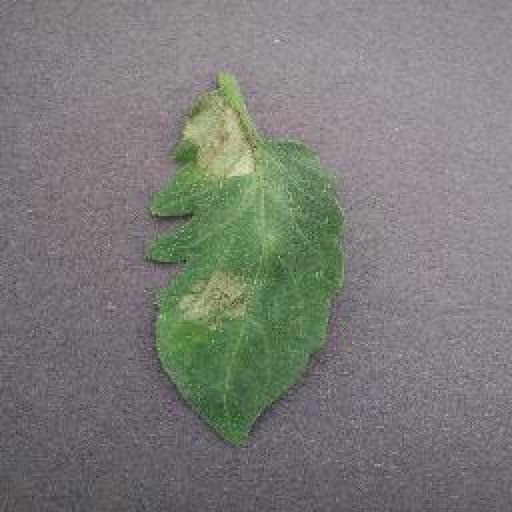Late Blight: (144, 84, 344, 449)
